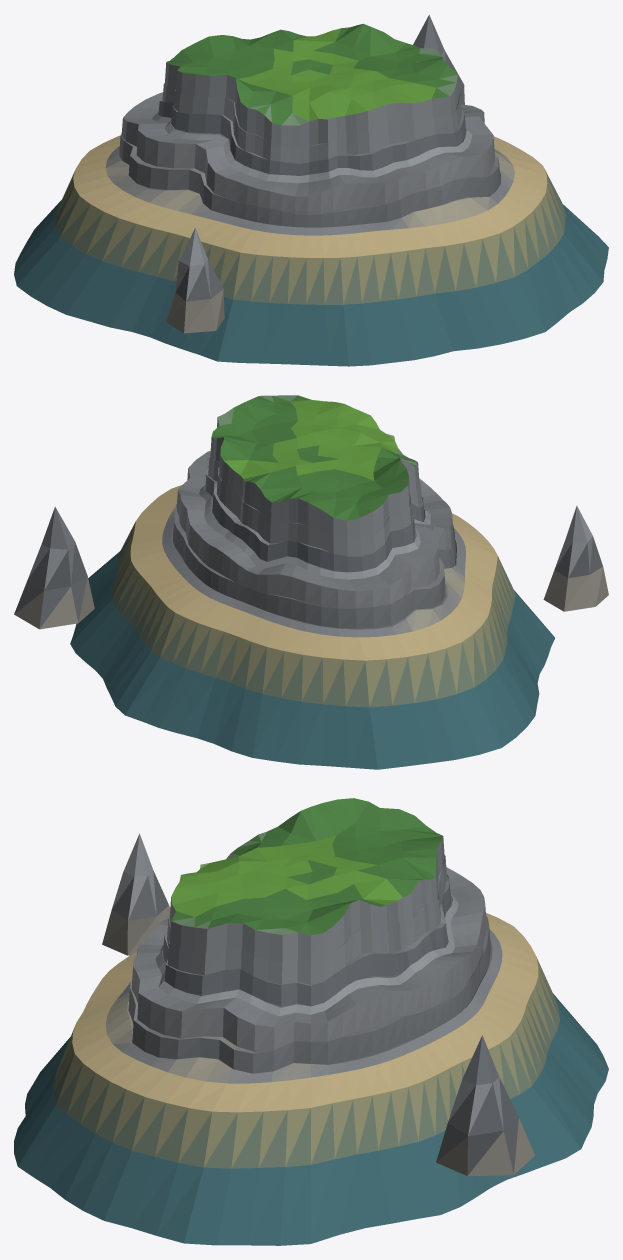
The model's file is islet_08.glb.
3 views of the same model, one above another, from view 1: azimuth 30°, elevation 25°; view 2: azimuth 150°, elevation 25°; view 3: azimuth 270°, elevation 25° (orthographic). The views are drawn at different scales.
Visible parts, largest first — view 1: islet_08; view 2: islet_08; view 3: islet_08.
Part boxes in pixels (x1=…): islet_08: x1=14, y1=15, x2=608, y2=366; islet_08: x1=14, y1=395, x2=608, y2=769; islet_08: x1=14, y1=798, x2=608, y2=1245.
Size of the model in its own units: 30.82 by 13.35 by 27.77.
